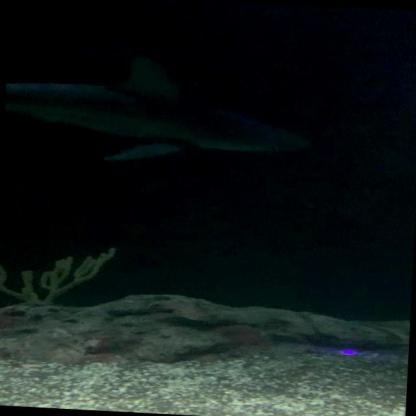shark: (2, 46, 316, 172)
